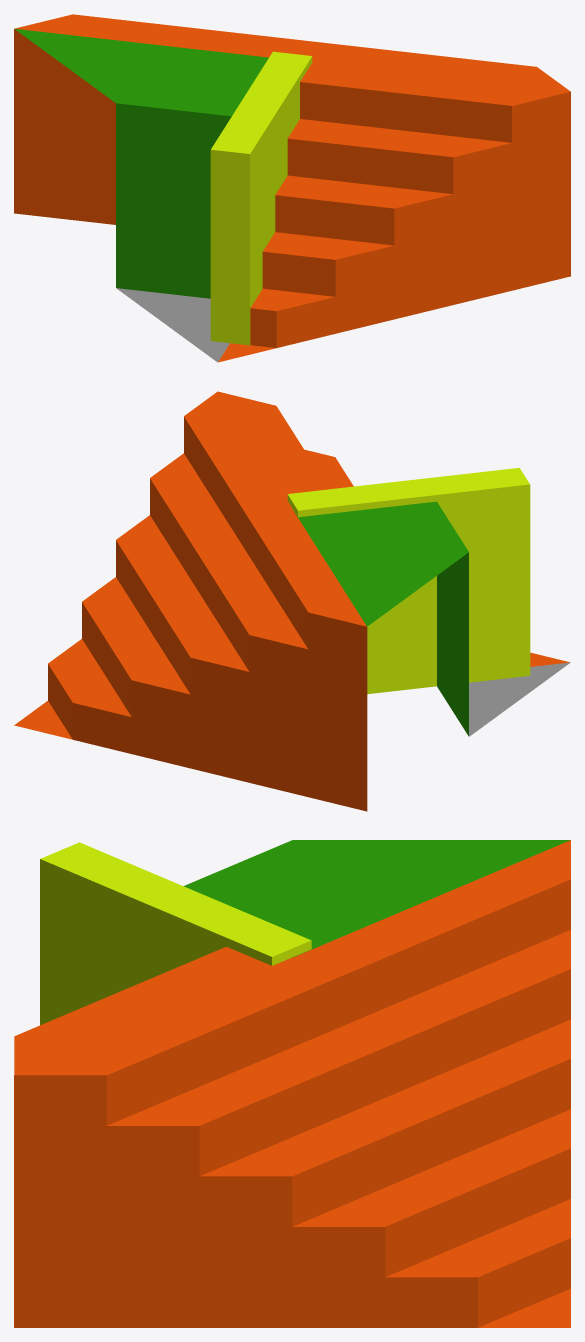
3 views of the same model, one above another, from view 1: azimuth 30°, elevation 25°; view 2: azimuth 150°, elevation 25°; view 3: azimuth 270°, elevation 25° (orthographic). The views are drawn at different scales.
Visible parts, largest first — view 1: T_a_e_0; view 2: T_a_e_0; view 3: T_a_e_0.
Part boxes in pixels (x1=…): T_a_e_0: x1=14, y1=14, x2=570, y2=362; T_a_e_0: x1=14, y1=391, x2=570, y2=811; T_a_e_0: x1=14, y1=840, x2=570, y2=1327.
Bounding box in the file's own units: 99.85 × 51.68 × 99.81.
